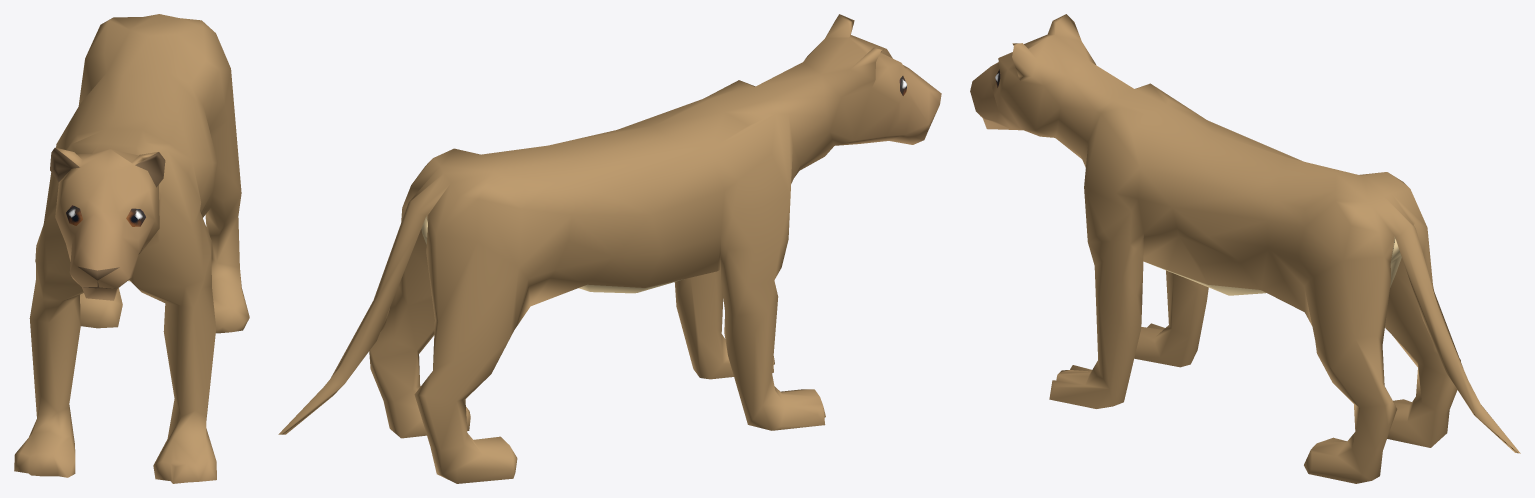
The model's file is LionFemale.glb.
The picture shows the model from 3 angles, left to right: view 1: azimuth 30°, elevation 25°; view 2: azimuth 150°, elevation 25°; view 3: azimuth 270°, elevation 25°; orthographic projection. The views are drawn at different scales.
Visible parts, largest first — view 1: LionFemale; view 2: LionFemale; view 3: LionFemale.
Part boxes in pixels (x1,y1,x2,y2): LionFemale: [14, 14, 249, 483]; LionFemale: [278, 14, 941, 483]; LionFemale: [970, 14, 1520, 483].
Size of what is drawn, in the model's own units: 1.56 by 1.35 by 2.1.
Materials: 1 (1 with a texture image).
